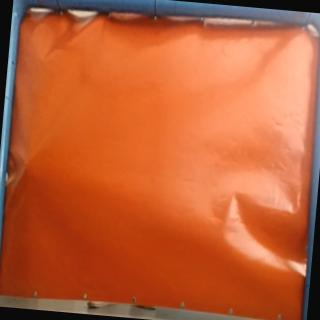Hit-hRxx: (19, 155, 32, 177)
